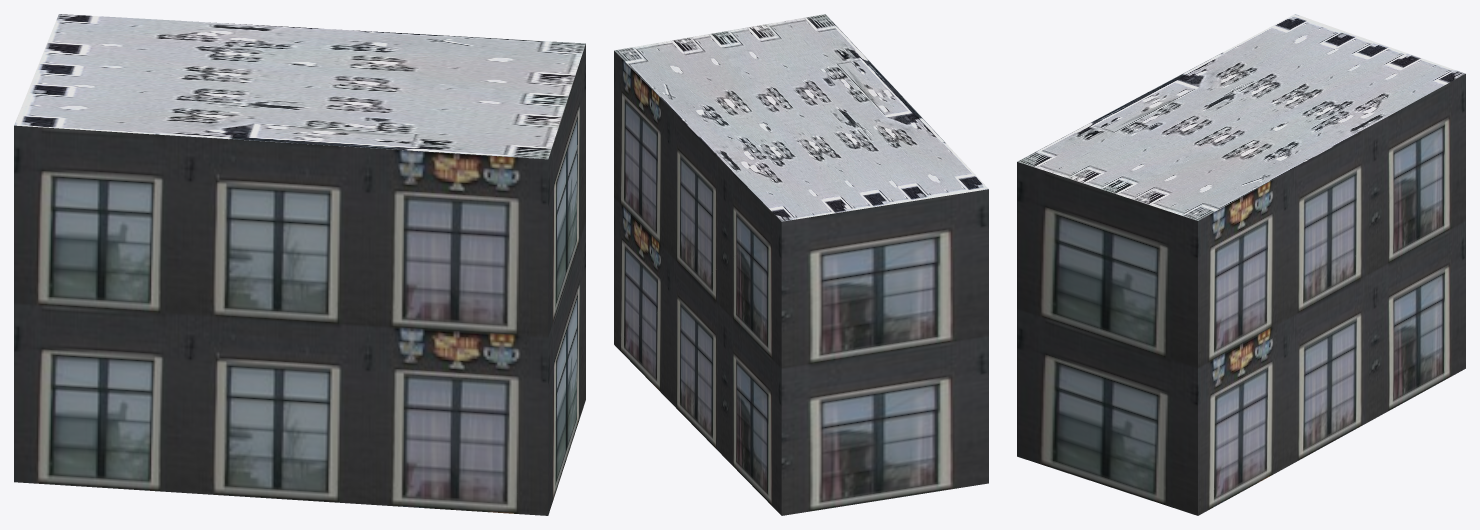
The model's file is ResTex__4517.fbx.
3 renders of one model, left to right at view 1: azimuth 30°, elevation 25°; view 2: azimuth 150°, elevation 25°; view 3: azimuth 270°, elevation 25°, orthographic. The views are drawn at different scales.
Parts seen in each view (by area): view 1: CityEngineMaterial_22_m, CityEngineMaterial_m; view 2: CityEngineMaterial_22_m, CityEngineMaterial_m; view 3: CityEngineMaterial_22_m, CityEngineMaterial_m.
Part boxes in pixels (x1,y1,x2,y2): CityEngineMaterial_22_m: (14,44,585,515); CityEngineMaterial_m: (14,14,585,159); CityEngineMaterial_22_m: (614,51,988,515); CityEngineMaterial_m: (614,14,988,221); CityEngineMaterial_22_m: (1017,74,1465,515); CityEngineMaterial_m: (1017,14,1465,220).
Bounding box in the file's own units: 9.04 × 6 × 8.27.
2 materials, 2 textured.
